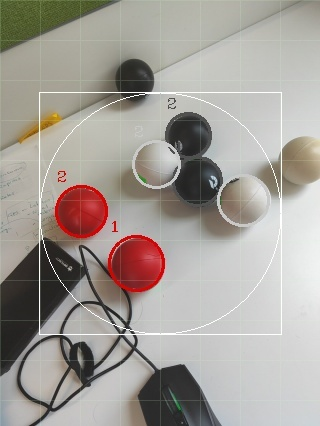Pelota blanca: (15, 334, 81, 411), (215, 172, 273, 227), (129, 137, 182, 190), (279, 134, 320, 184), (0, 385, 49, 425)
Pelota negra: (137, 363, 219, 425), (172, 156, 222, 206), (164, 110, 211, 158), (113, 57, 155, 94)
Pelota roja: (106, 233, 166, 294), (52, 182, 110, 240)
